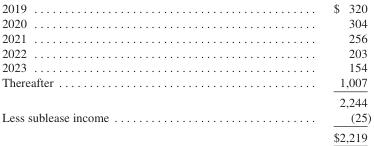table: (1, 1, 370, 143)
table column: (1, 1, 220, 143), (220, 1, 370, 143)
table row: (1, 91, 370, 109), (1, 74, 370, 91), (1, 109, 370, 126), (1, 126, 370, 143), (1, 15, 370, 30), (1, 44, 370, 59), (1, 59, 370, 74), (1, 1, 370, 15), (1, 30, 370, 44)
